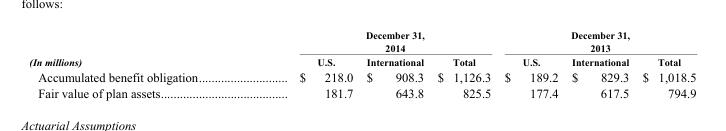table: (28, 29, 695, 99)
table column: (28, 29, 247, 99), (247, 29, 359, 99), (562, 29, 635, 99), (359, 29, 429, 99), (429, 29, 497, 99), (497, 29, 562, 99), (635, 29, 695, 99)
table column header: (28, 29, 695, 68)
table row: (28, 29, 695, 54), (28, 68, 695, 84), (28, 84, 695, 99), (28, 54, 695, 68)
table spanning cell: (28, 29, 247, 68), (247, 29, 497, 54), (497, 29, 695, 54)
